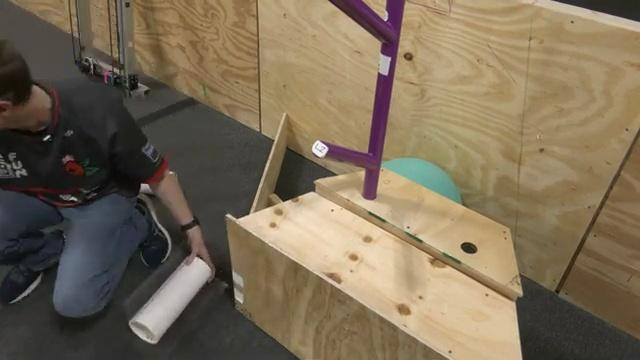CORAL: (127, 252, 214, 344)
